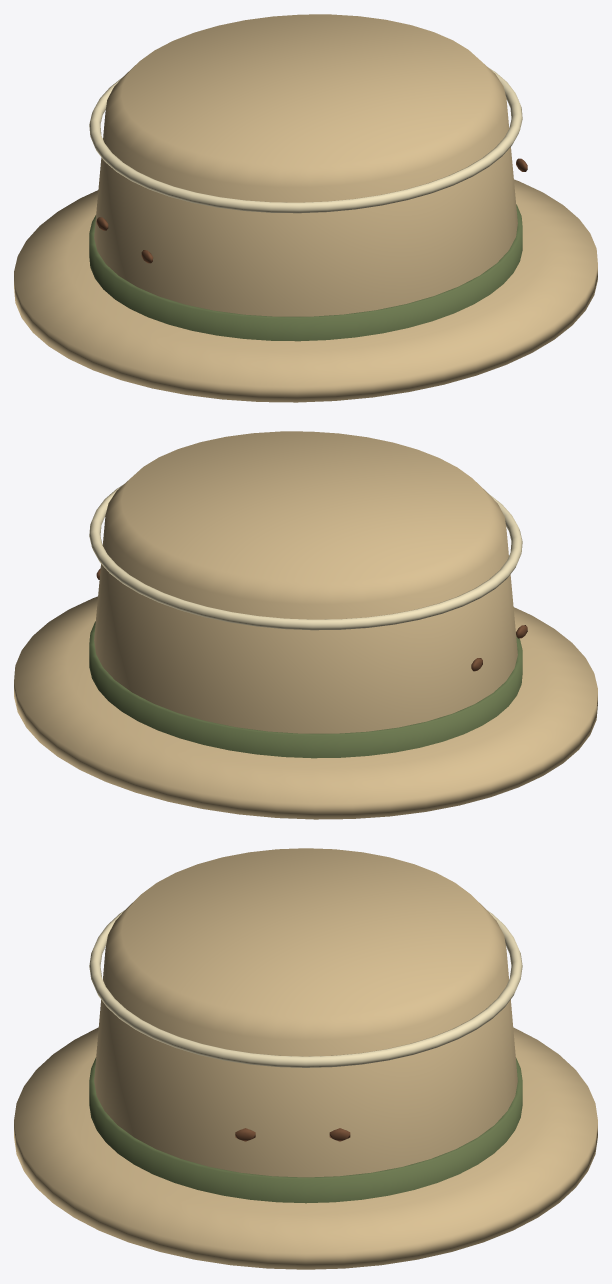
File: 01-sunbreak-bucket.glb
The picture shows the model from 3 angles, top to bottom: view 1: azimuth 30°, elevation 25°; view 2: azimuth 150°, elevation 25°; view 3: azimuth 270°, elevation 25°; orthographic projection. The views are drawn at different scales.
Visible parts, largest first — view 1: Hat01_Crown1, Hat01_Brim2, Hat01_Band3, Hat01_Piping4; view 2: Hat01_Crown1, Hat01_Brim2, Hat01_Band3, Hat01_Piping4; view 3: Hat01_Crown1, Hat01_Brim2, Hat01_Band3, Hat01_Piping4.
Part boxes in pixels (bbox=[...]): Hat01_Crown1: bbox=[94, 14, 517, 316]; Hat01_Brim2: bbox=[14, 179, 597, 402]; Hat01_Band3: bbox=[89, 204, 522, 341]; Hat01_Piping4: bbox=[89, 68, 522, 213]; Hat01_Crown1: bbox=[94, 431, 517, 733]; Hat01_Brim2: bbox=[14, 596, 597, 819]; Hat01_Band3: bbox=[89, 621, 522, 758]; Hat01_Piping4: bbox=[89, 485, 522, 630]; Hat01_Crown1: bbox=[94, 848, 517, 1177]; Hat01_Brim2: bbox=[14, 1027, 597, 1269]; Hat01_Band3: bbox=[89, 1058, 522, 1203]; Hat01_Piping4: bbox=[89, 910, 522, 1067].
Bounding box in the file's own units: 0.83 × 0.299 × 0.7719.
